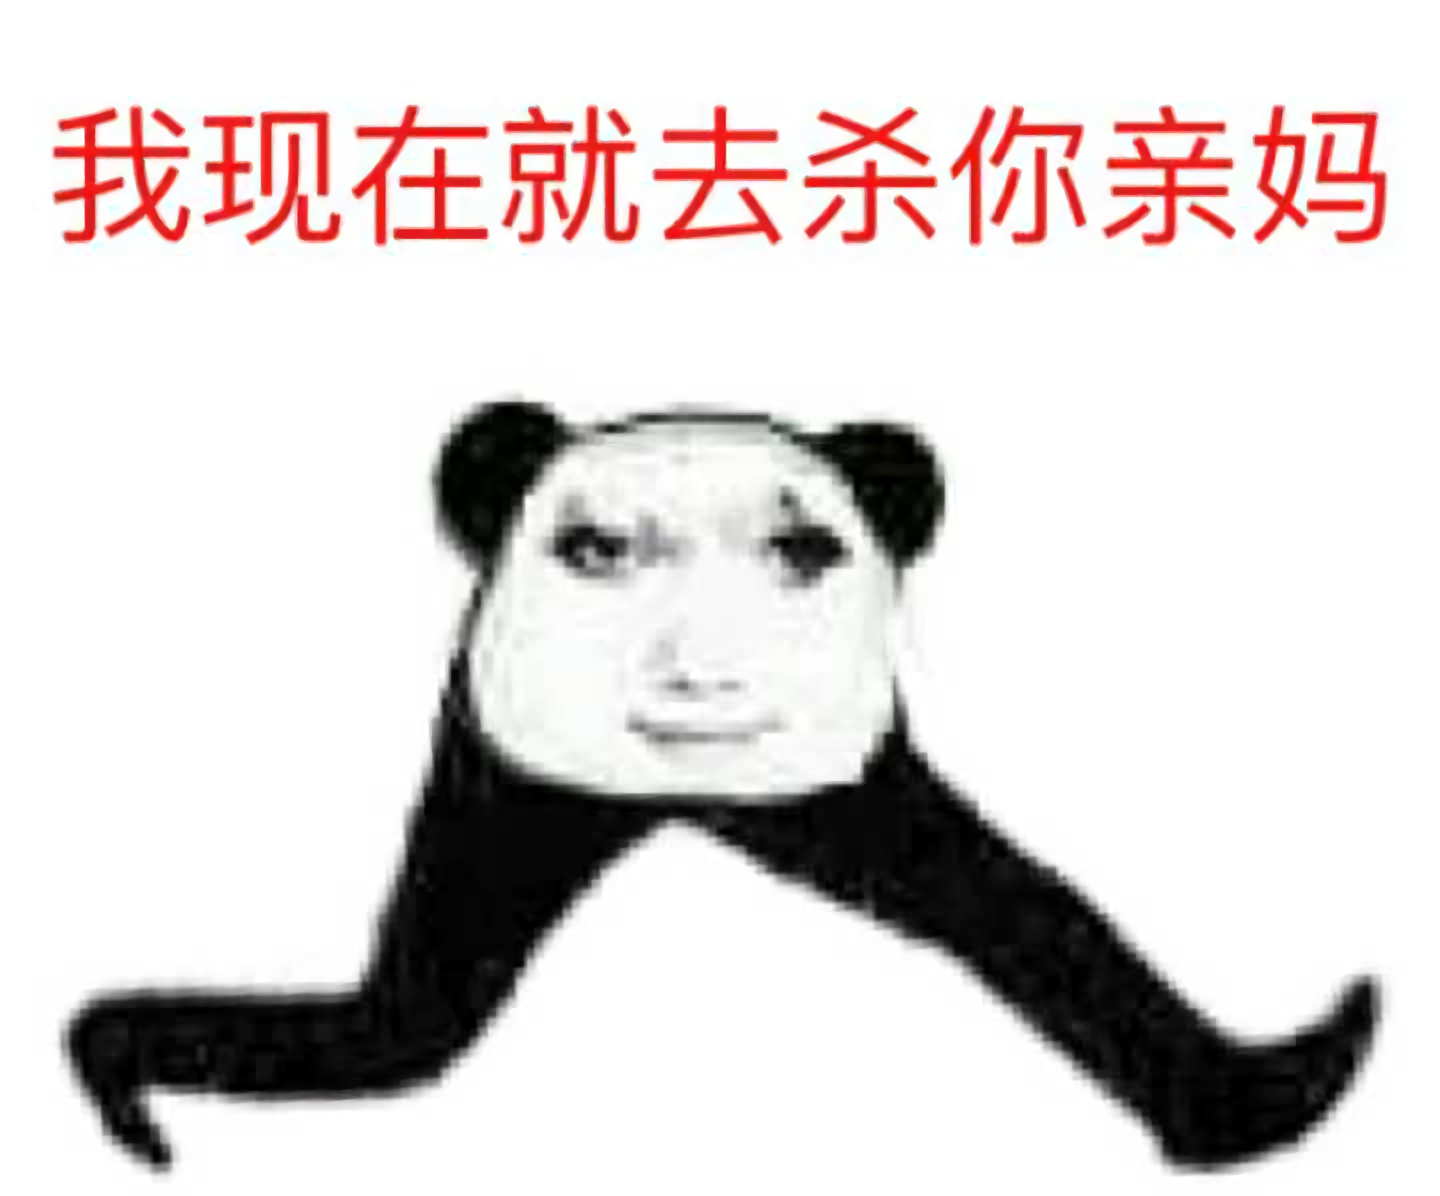dragon: (549, 493, 862, 757)
